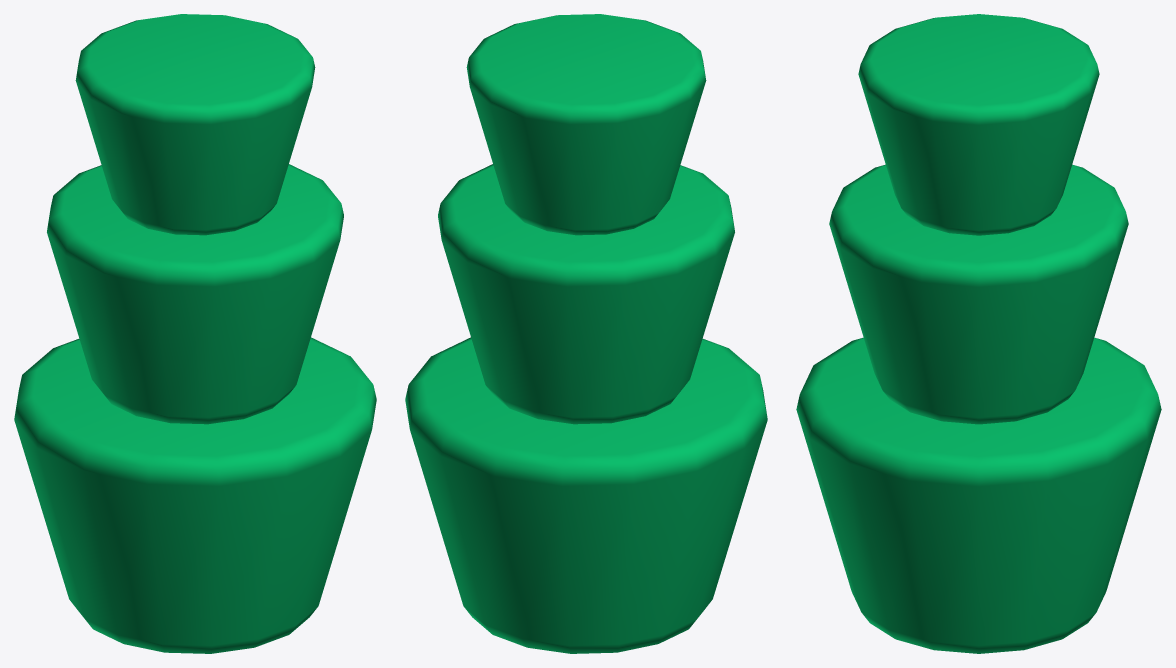
The model's file is Town_8_Plant_3.glb.
The picture shows the model from 3 angles, left to right: view 1: azimuth 30°, elevation 25°; view 2: azimuth 150°, elevation 25°; view 3: azimuth 270°, elevation 25°; orthographic projection.
Visible parts, largest first — view 1: Town_8_Plant_3; view 2: Town_8_Plant_3; view 3: Town_8_Plant_3.
Boxes of the visible parts, box(x1,y1,x2,y2) form: Town_8_Plant_3: box(14, 14, 376, 653); Town_8_Plant_3: box(405, 14, 767, 653); Town_8_Plant_3: box(796, 14, 1161, 653).
Bounding box in the file's own units: 0.9124 × 1.51 × 0.9124.
1 material, 1 textured.
